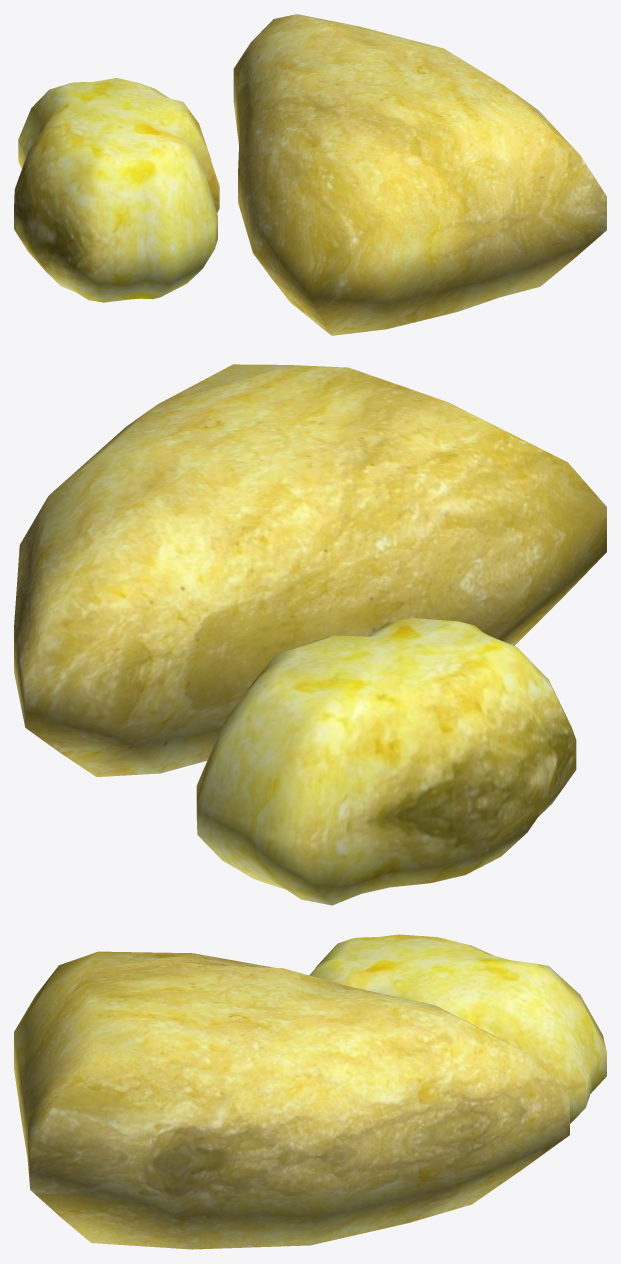
Rendered from liuhuang.FBX.
3 renders of one model, top to bottom at view 1: azimuth 30°, elevation 25°; view 2: azimuth 150°, elevation 25°; view 3: azimuth 270°, elevation 25°, orthographic. The views are drawn at different scales.
Parts seen in each view (by area): view 1: Line001, Line002; view 2: Line001, Line002; view 3: Line001, Line002.
Part boxes in pixels (<box>): Line001: <box>233,14,606,335</box>; Line002: <box>14,78,219,302</box>; Line001: <box>14,364,606,776</box>; Line002: <box>196,618,576,905</box>; Line001: <box>14,951,569,1249</box>; Line002: <box>309,934,606,1123</box>.
Size of the model in its own units: 38.39 by 17.92 by 42.04.
